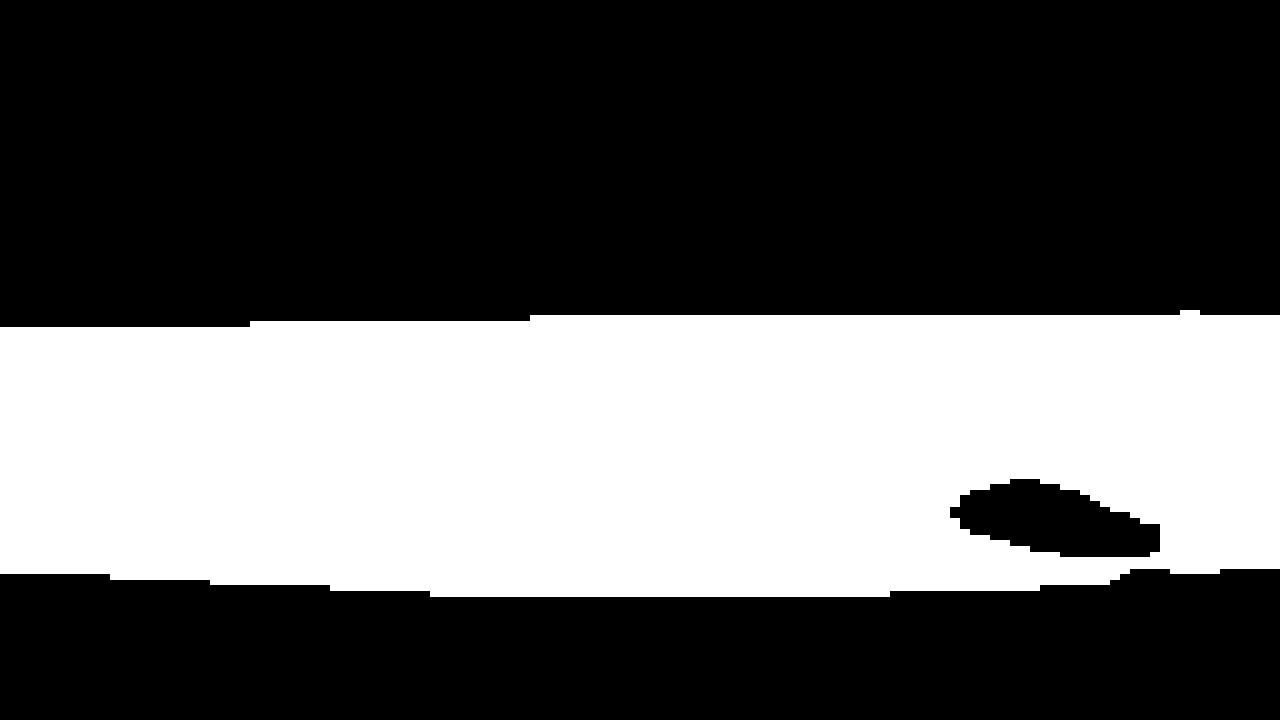Turbine: (6, 293, 1264, 574)
